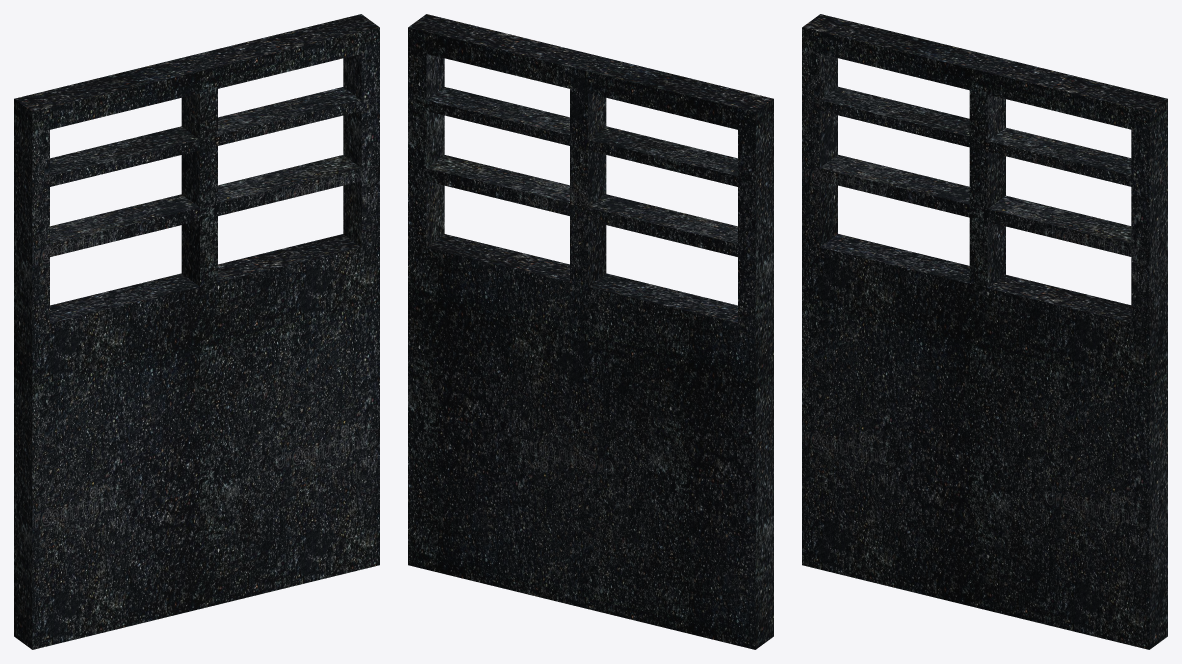
Rendered from Puerta01.obj.
The picture shows the model from 3 angles, left to right: view 1: azimuth 30°, elevation 25°; view 2: azimuth 150°, elevation 25°; view 3: azimuth 330°, elevation 25°; orthographic projection.
Parts seen in each view (by area): view 1: polySurface6; view 2: polySurface6; view 3: polySurface6.
Part boxes in pixels (bbox=[...]): polySurface6: bbox=[14, 14, 379, 649]; polySurface6: bbox=[408, 14, 773, 649]; polySurface6: bbox=[802, 14, 1167, 649].
Bounding box in the file's own units: 1.02 × 1.51 × 0.0936.
1 material, 1 textured.
